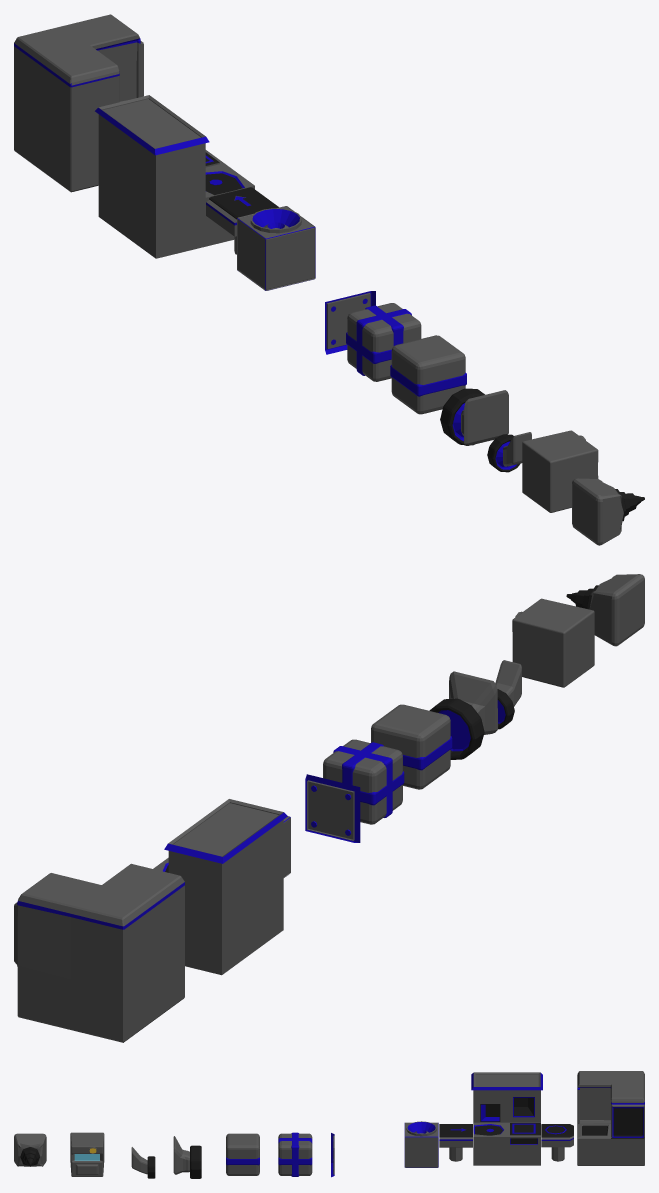
File: GSO.glb
The picture shows the model from 3 angles, top to bottom: view 1: azimuth 30°, elevation 25°; view 2: azimuth 150°, elevation 25°; view 3: azimuth 270°, elevation 25°; orthographic projection. The views are drawn at different scales.
Parts seen in each view (by area): view 1: Cube.001, Cube.003, Intake, Cube1, Cab, Cube2, DrillBody, WheelBodyBig, Cube, Armor, WheelBig; view 2: Cube.003, Cube.001, Cab, Cube1, Cube2, Armor, DrillBody, WheelBig, WheelBodyBig, WheelBodySmall; view 3: Cube.001, Cube.003, Intake, Cab, Cube2, Cube1, Cube, Cube.002, DrillBody, WheelBodyBig, WheelBig, WheelBodySmall (+2 smaller).
Part boxes in pixels (<box>): Cube.001: <box>95,95,254,258</box>; Cube.003: <box>14,14,143,192</box>; Intake: <box>237,206,315,290</box>; Cube1: <box>390,335,466,414</box>; Cab: <box>522,430,598,512</box>; Cube2: <box>346,303,421,381</box>; DrillBody: <box>572,478,623,545</box>; WheelBodyBig: <box>461,390,508,445</box>; Cube: <box>206,187,278,254</box>; Armor: <box>325,291,375,354</box>; WheelBig: <box>440,388,484,445</box>; Cube.003: <box>14,863,184,1042</box>; Cube.001: <box>153,799,287,975</box>; Cab: <box>512,598,594,687</box>; Cube1: <box>371,704,452,789</box>; Cube2: <box>323,739,404,824</box>; Armor: <box>305,774,360,842</box>; DrillBody: <box>589,574,644,646</box>; WheelBig: <box>429,698,484,759</box>; WheelBodyBig: <box>449,671,497,734</box>; WheelBodySmall: <box>495,660,521,706</box>; Cube.001: <box>471,1072,542,1165</box>; Cube.003: <box>577,1071,644,1165</box>; Intake: <box>404,1121,438,1167</box>; Cab: <box>70,1132,104,1176</box>; Cube2: <box>278,1132,312,1176</box>; Cube1: <box>226,1133,259,1175</box>; Cube: <box>439,1124,472,1161</box>; Cube.002: <box>541,1124,573,1161</box>; DrillBody: <box>14,1133,46,1166</box>; WheelBodyBig: <box>173,1136,189,1174</box>; WheelBig: <box>190,1145,201,1178</box>; WheelBodySmall: <box>131,1147,147,1174</box>.
Size of the model in its own units: 2.32 by 2.82 by 18.7.
